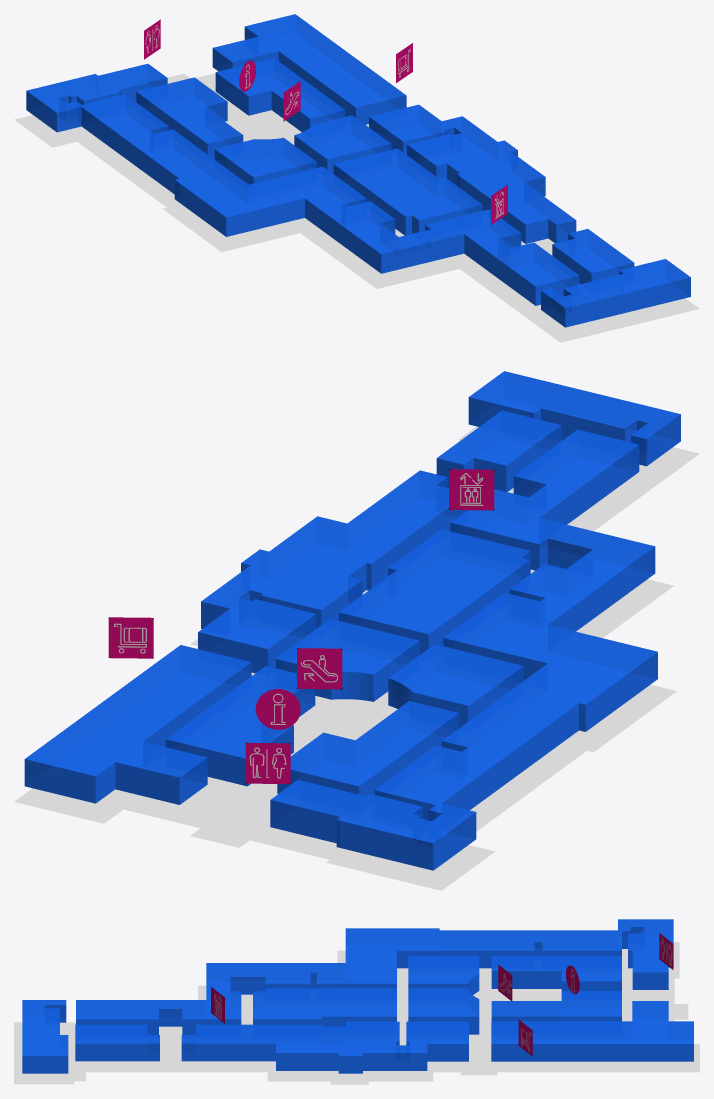
The model's file is guangchang.obj.
3 views of the same model, one above another, from view 1: azimuth 30°, elevation 25°; view 2: azimuth 150°, elevation 25°; view 3: azimuth 270°, elevation 25° (orthographic). The views are drawn at different scales.
Visible parts, largest first — view 1: Mesh11 Group2 __1 Model, Mesh1 Group1 __1 Model, Mesh4 Group2 __1 Model, Mesh2 Group2 __1 Model, Mesh10 Group2 __1 Model, Mesh8 Group2 __1 Model, Mesh6 Group2 __1 Model, Mesh3 Group2 __1 Model, Mesh7 Group2 __1 Model, Mesh5 Group2 __1 Model, Mesh9 Group2 __1 Model, Mesh13 ___4_1 __1 Model; view 2: Mesh11 Group2 __1 Model, Mesh1 Group1 __1 Model, Mesh4 Group2 __1 Model, Mesh2 Group2 __1 Model, Mesh10 Group2 __1 Model, Mesh8 Group2 __1 Model, Mesh6 Group2 __1 Model, Mesh3 Group2 __1 Model, Mesh5 Group2 __1 Model, Mesh7 Group2 __1 Model, Mesh9 Group2 __1 Model, Mesh14 ___5_1 __1 Model (+4 smaller); view 3: Mesh11 Group2 __1 Model, Mesh1 Group1 __1 Model, Mesh4 Group2 __1 Model, Mesh2 Group2 __1 Model, Mesh10 Group2 __1 Model, Mesh6 Group2 __1 Model, Mesh3 Group2 __1 Model, Mesh8 Group2 __1 Model, Mesh9 Group2 __1 Model, Mesh7 Group2 __1 Model, Mesh5 Group2 __1 Model, Mesh13 ___4_1 __1 Model (+4 smaller).
Boxes of the visible parts, x1,y1,x2,y2 form: Mesh11 Group2 __1 Model: [26, 63, 579, 305]; Mesh1 Group1 __1 Model: [14, 73, 699, 342]; Mesh4 Group2 __1 Model: [369, 104, 576, 243]; Mesh2 Group2 __1 Model: [212, 14, 406, 124]; Mesh10 Group2 __1 Model: [333, 148, 482, 235]; Mesh8 Group2 __1 Model: [541, 259, 690, 327]; Mesh6 Group2 __1 Model: [136, 77, 243, 159]; Mesh3 Group2 __1 Model: [215, 58, 345, 132]; Mesh7 Group2 __1 Model: [294, 115, 391, 173]; Mesh5 Group2 __1 Model: [214, 137, 316, 184]; Mesh9 Group2 __1 Model: [552, 229, 634, 284]; Mesh13 ___4_1 __1 Model: [283, 81, 300, 121]; Mesh11 Group2 __1 Model: [270, 429, 657, 870]; Mesh1 Group1 __1 Model: [14, 426, 699, 890]; Mesh4 Group2 __1 Model: [198, 470, 466, 673]; Mesh2 Group2 __1 Model: [24, 645, 251, 804]; Mesh10 Group2 __1 Model: [339, 529, 530, 654]; Mesh8 Group2 __1 Model: [468, 371, 680, 466]; Mesh6 Group2 __1 Model: [277, 701, 459, 796]; Mesh3 Group2 __1 Model: [165, 666, 315, 786]; Mesh5 Group2 __1 Model: [388, 644, 523, 727]; Mesh7 Group2 __1 Model: [276, 619, 419, 701]; Mesh9 Group2 __1 Model: [436, 410, 561, 491]; Mesh14 ___5_1 __1 Model: [108, 617, 153, 658]; Mesh11 Group2 __1 Model: [76, 919, 673, 1034]; Mesh1 Group1 __1 Model: [14, 942, 699, 1084]; Mesh4 Group2 __1 Model: [181, 1021, 468, 1073]; Mesh2 Group2 __1 Model: [491, 1001, 693, 1061]; Mesh10 Group2 __1 Model: [253, 988, 396, 1026]; Mesh6 Group2 __1 Model: [491, 955, 621, 990]; Mesh3 Group2 __1 Model: [491, 991, 621, 1021]; Mesh8 Group2 __1 Model: [22, 1000, 68, 1073]; Mesh9 Group2 __1 Model: [75, 1024, 159, 1061]; Mesh7 Group2 __1 Model: [408, 988, 479, 1034]; Mesh5 Group2 __1 Model: [408, 955, 479, 994]; Mesh13 ___4_1 __1 Model: [498, 964, 512, 1001].
Size of the model in its own units: 2.72 by 0.5504 by 5.52.
7 materials, 5 textured.
